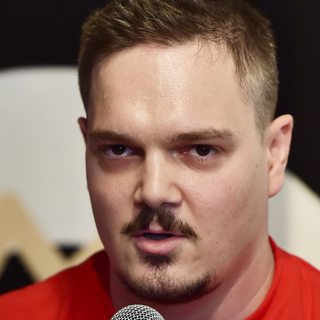eye: (171, 140, 231, 166), (94, 139, 143, 164)
